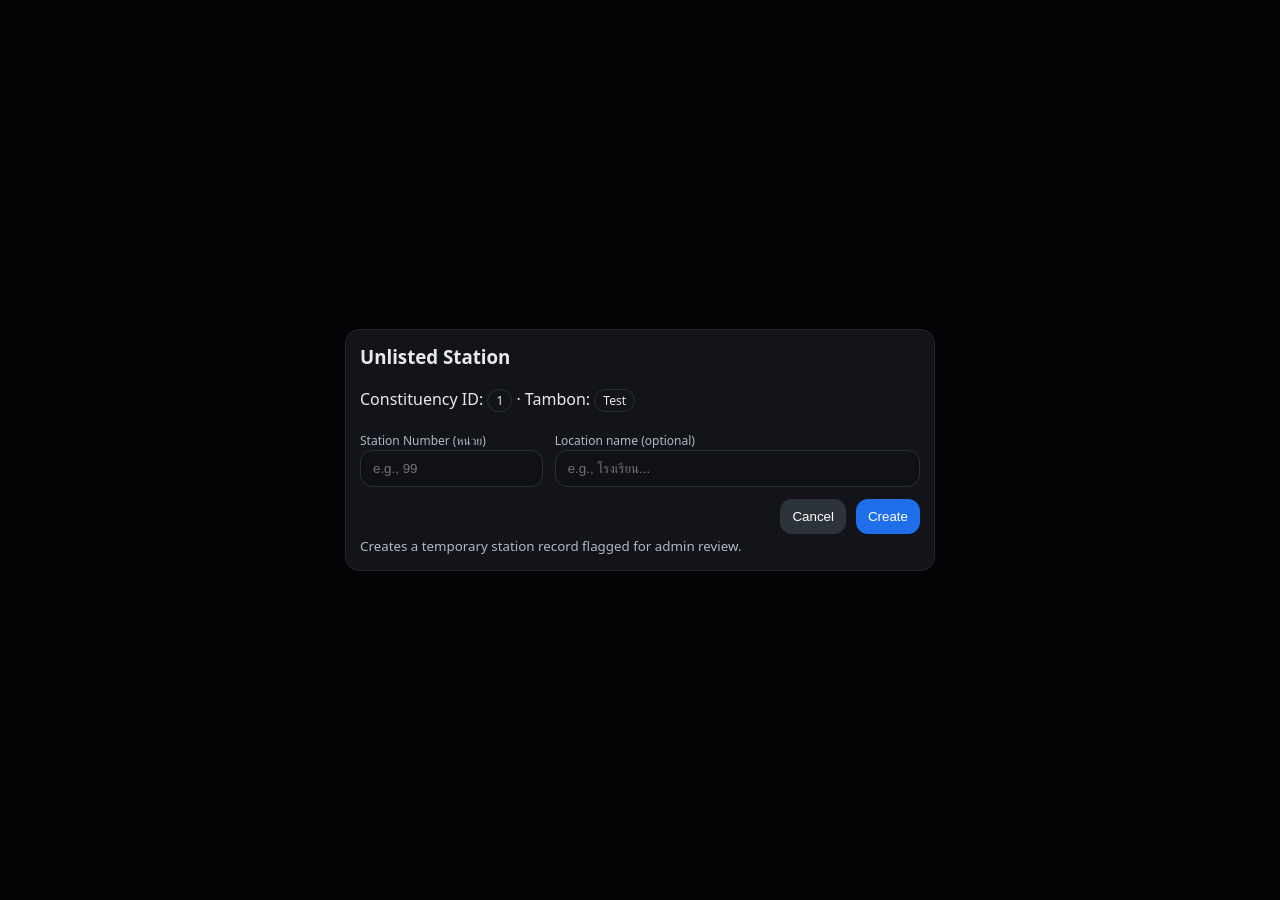
Test case: UnlistedStationModal › should show error for zero station number
In the field with placeholder "e.g., 99": (451, 468) x1=360 y1=450 x2=543 y2=487, type "0"
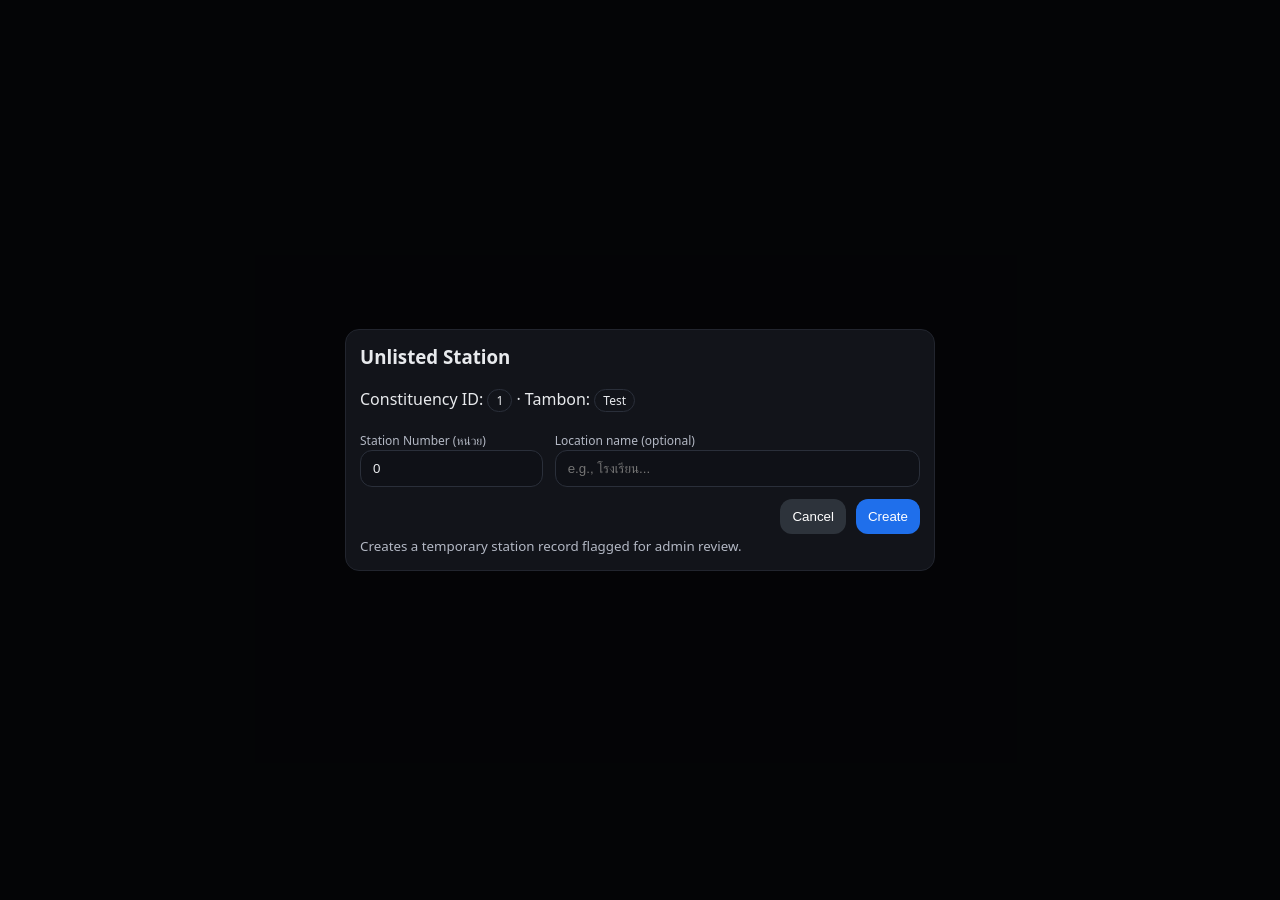
Click the button "Create": (888, 516) x1=856 y1=499 x2=920 y2=534
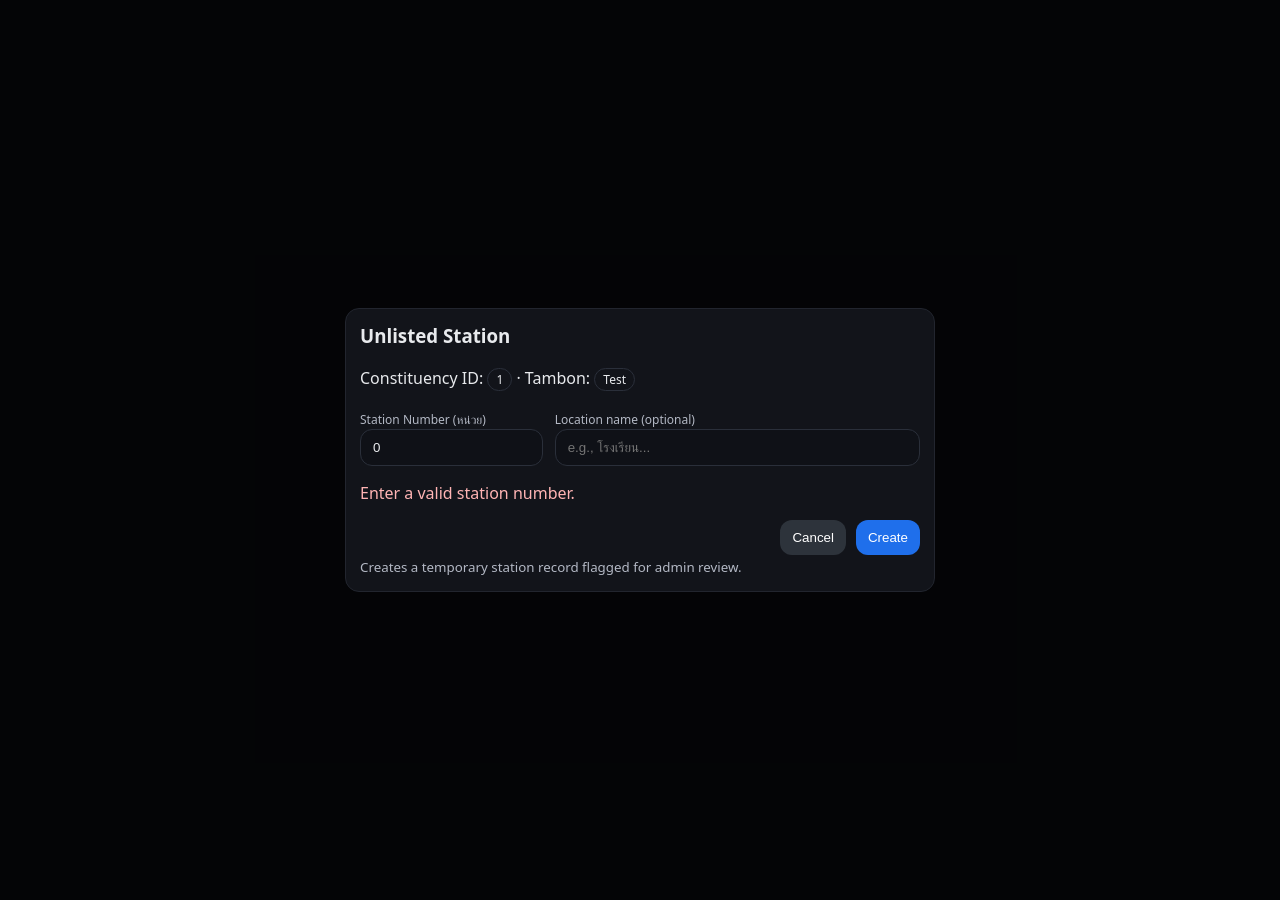
expect the text "Enter a valid station number." is shown: met, box x1=360 y1=482 x2=575 y2=504
